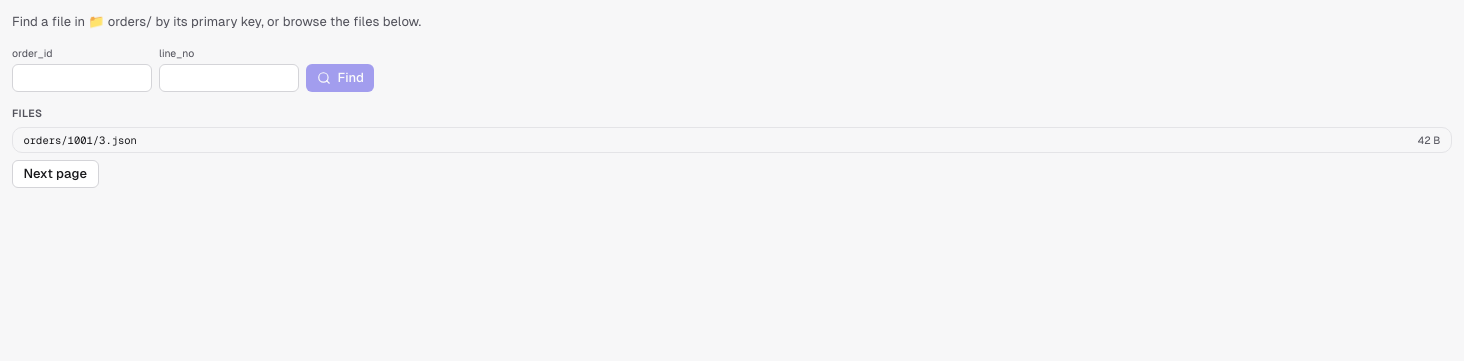
Test: OutputBrowser › AC4: finds by key and shows path
# One input per key-template column.
Type "1001" into the field labelled "order_id" at (82, 78), box [12,64,152,92]
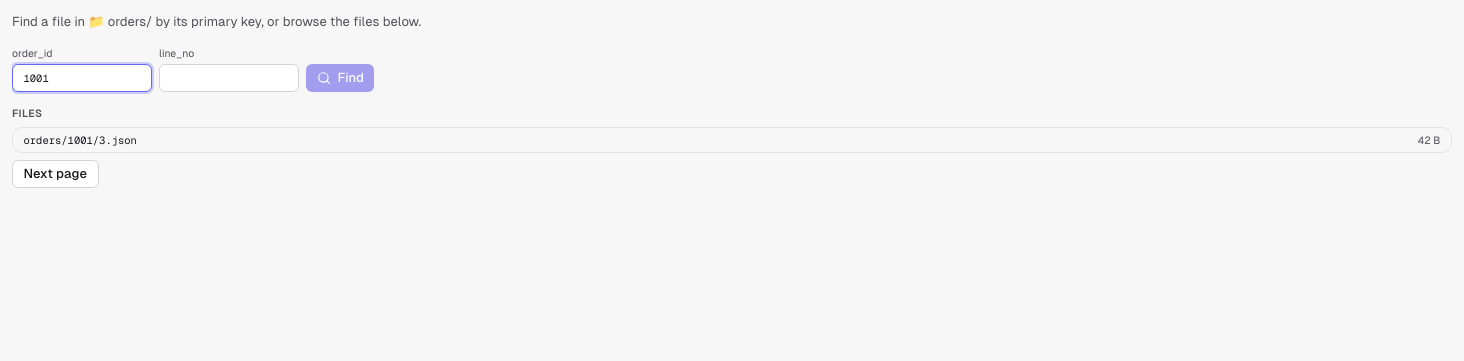
Type "3" into the field labelled "line_no" at (229, 78), box [159,64,299,92]
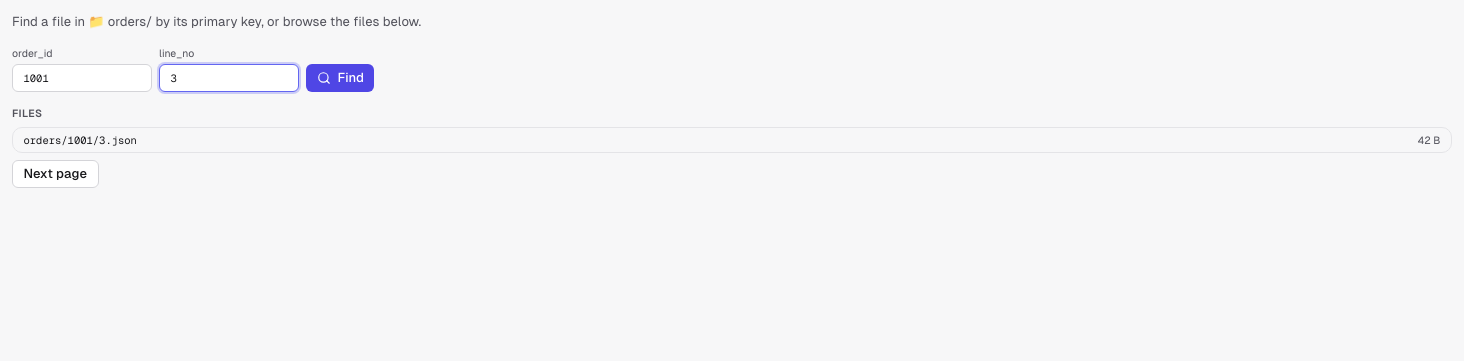
Click the button "Find" at (340, 78), box [306,64,374,92]
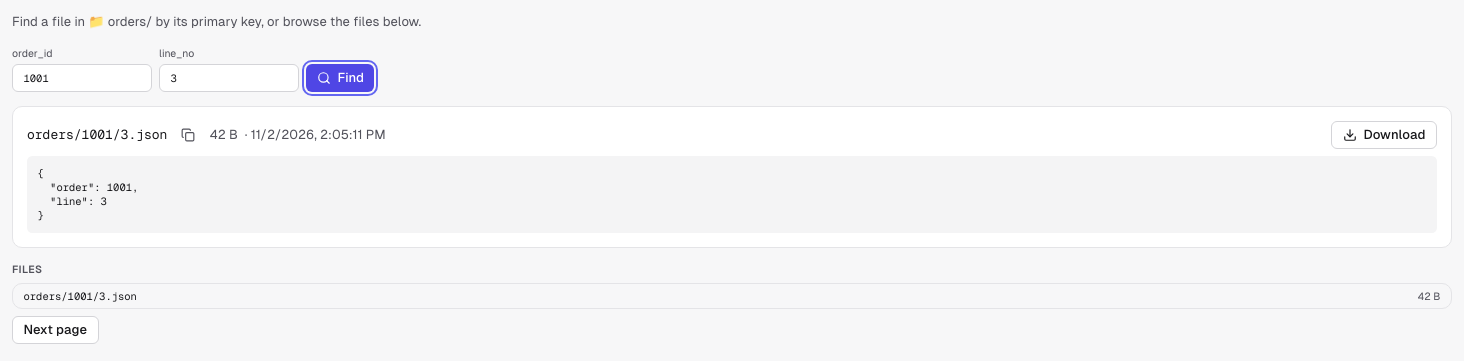
Now the text "orders/1001/3.json" in the row of "11/2/2026, 2:05:11 PM" is shown, box [27,126,167,142]
Now the text "{ \"order\": 1001, \"line\": 3 }" is shown, box [27,156,1437,232]
